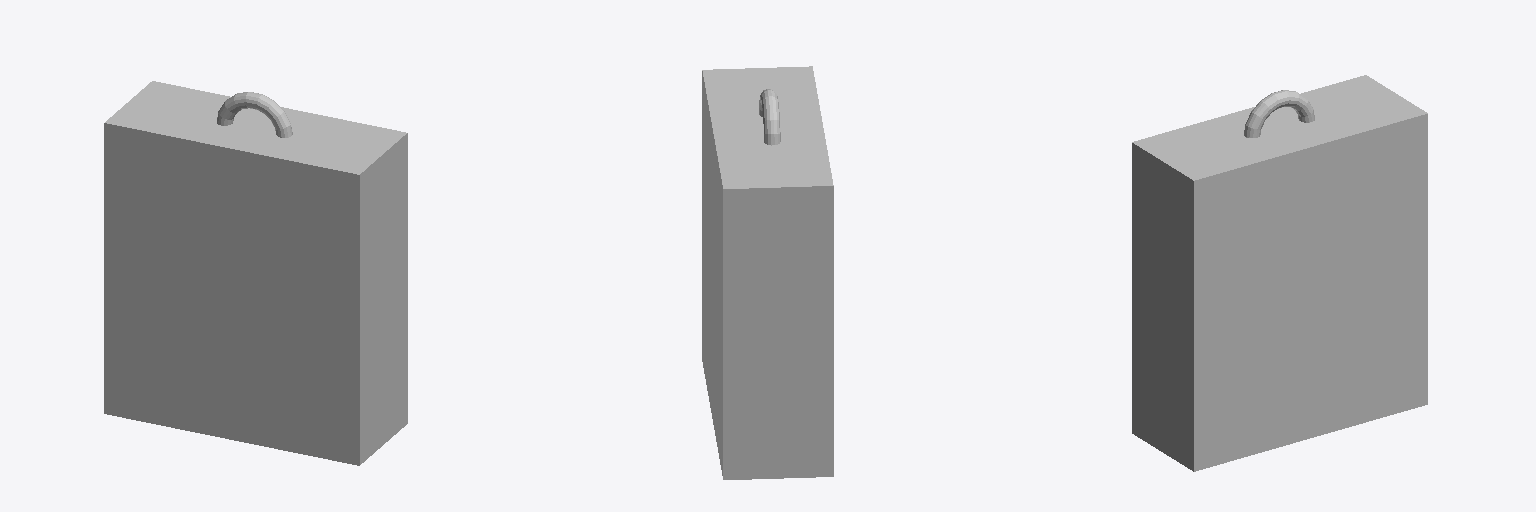
File: Toolbox.obj
3 renders of one model, left to right at view 1: azimuth 30°, elevation 25°; view 2: azimuth 150°, elevation 25°; view 3: azimuth 270°, elevation 25°, orthographic.
Visible parts, largest first — view 1: polySurface99; view 2: polySurface99; view 3: polySurface99.
Boxes of the visible parts, x1=… form: polySurface99: x1=104, y1=81, x2=407, y2=465; polySurface99: x1=702, y1=66, x2=833, y2=479; polySurface99: x1=1132, y1=75, x2=1427, y2=471.
Bounding box in the file's own units: 1.75 × 2.5 × 2.07.